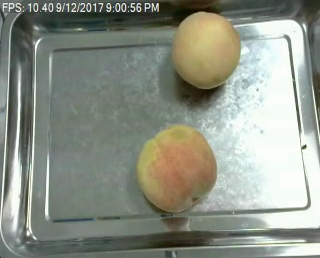Peach: (136, 123, 217, 212), (171, 10, 241, 89)
